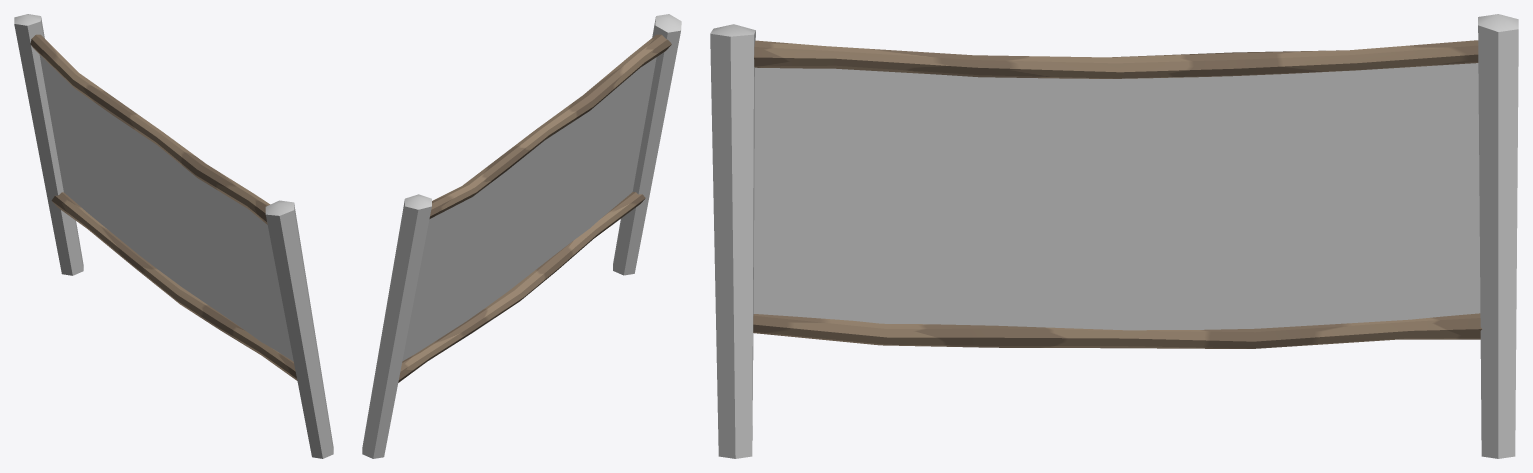
Rendered from SM_Bld_Dock_Railing_01.fbx.
The picture shows the model from 3 angles, left to right: view 1: azimuth 30°, elevation 25°; view 2: azimuth 150°, elevation 25°; view 3: azimuth 270°, elevation 25°; orthographic projection. The views are drawn at different scales.
Visible parts, largest first — view 1: SM_Bld_Dock_Railing_01; view 2: SM_Bld_Dock_Railing_01; view 3: SM_Bld_Dock_Railing_01.
Boxes of the visible parts, x1,y1,x2,y2 form: SM_Bld_Dock_Railing_01: (14,14,333,458); SM_Bld_Dock_Railing_01: (362,14,681,458); SM_Bld_Dock_Railing_01: (710,14,1518,458).
Size of the model in its own units: 40.07 by 148 by 265.
